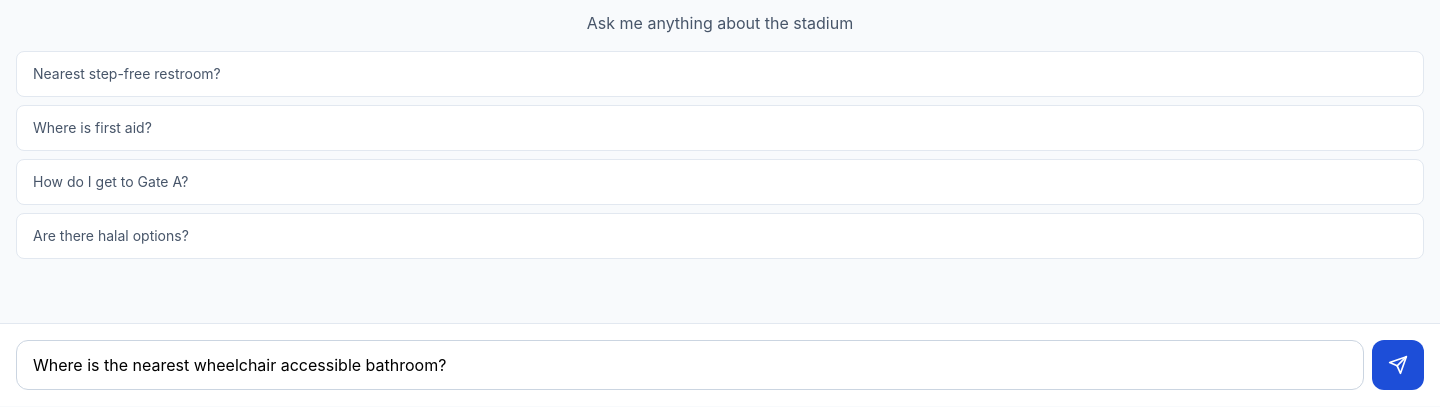
ChatInterface › disables send button when input is empty
The width and height of the screenshot is (1440, 407).
Clear the pre-filled value
Clear the field with placeholder "Ask about the stadium..." at (690, 365), box [16,340,1364,390]
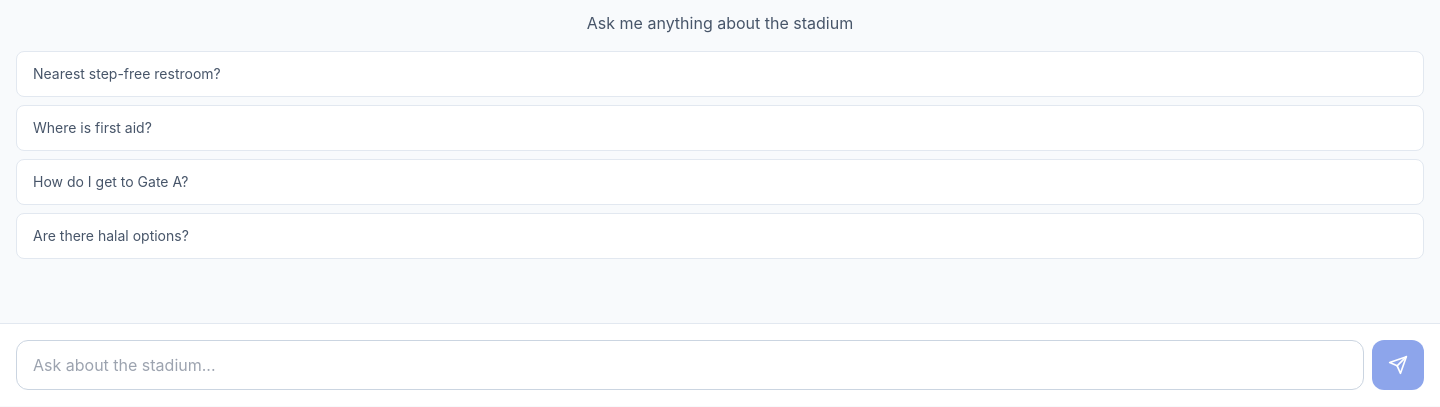
Check: the button named "send" is disabled, box [1372,340,1424,390]
